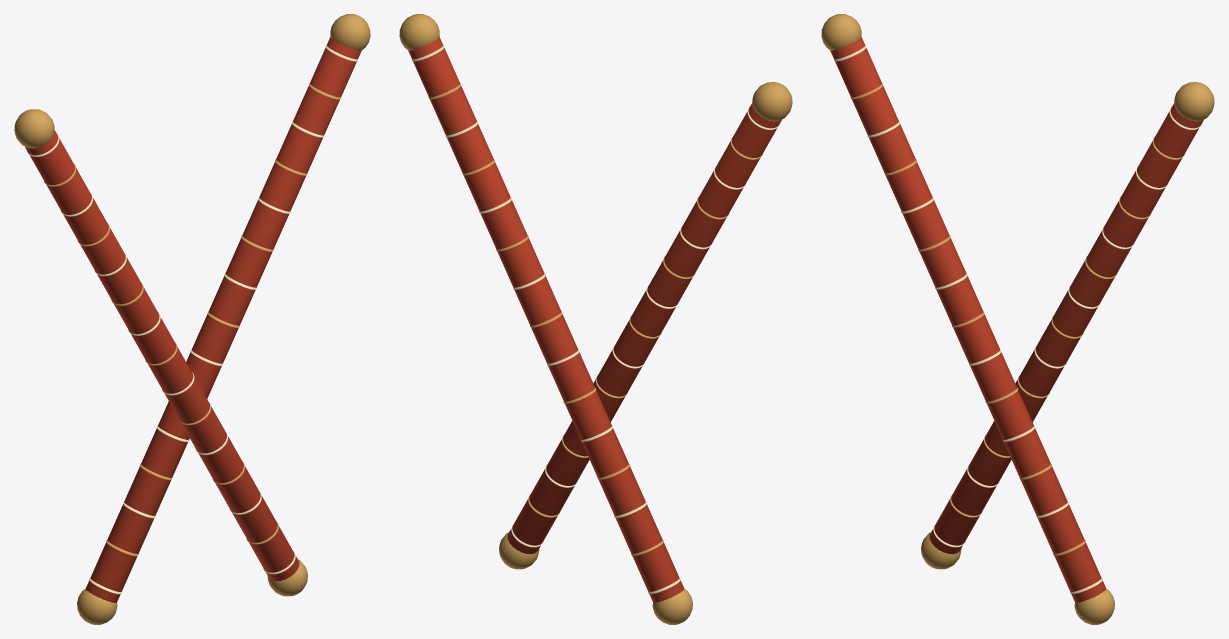
The model's file is divi-dandiya.glb.
The picture shows the model from 3 angles, left to right: view 1: azimuth 30°, elevation 25°; view 2: azimuth 150°, elevation 25°; view 3: azimuth 330°, elevation 25°; orthographic projection.
Visible parts, largest first — view 1: Rosewood stick.001, Rosewood stick, Sphere.001, Sphere.003, Sphere.002, Sphere; view 2: Rosewood stick.001, Rosewood stick, Sphere.001, Sphere.003, Sphere.002, Sphere; view 3: Rosewood stick, Rosewood stick.001, Sphere.003, Sphere.001, Sphere, Sphere.002.
Part boxes in pixels (<box>): Rosewood stick.001: <box>85,37,361,602</box>; Rosewood stick: <box>25,130,299,581</box>; Sphere.001: <box>14,109,54,148</box>; Sphere.003: <box>330,14,370,50</box>; Sphere.002: <box>77,589,117,624</box>; Sphere: <box>267,559,307,596</box>; Rosewood stick.001: <box>408,37,684,602</box>; Rosewood stick: <box>507,103,781,554</box>; Sphere.001: <box>752,82,792,121</box>; Sphere.003: <box>399,14,439,50</box>; Sphere.002: <box>652,589,692,624</box>; Sphere: <box>499,532,539,569</box>; Rosewood stick: <box>830,37,1106,602</box>; Rosewood stick.001: <box>929,103,1203,554</box>; Sphere.003: <box>1174,82,1214,121</box>; Sphere.001: <box>821,14,861,50</box>; Sphere: <box>1074,589,1114,624</box>; Sphere.002: <box>921,532,961,569</box>.
Size of the model in its own units: 1.62 by 2.28 by 0.294.
